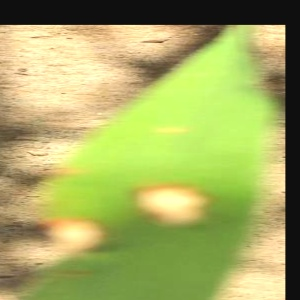Brown_Spot: (116, 169, 227, 243), (28, 201, 117, 259)
